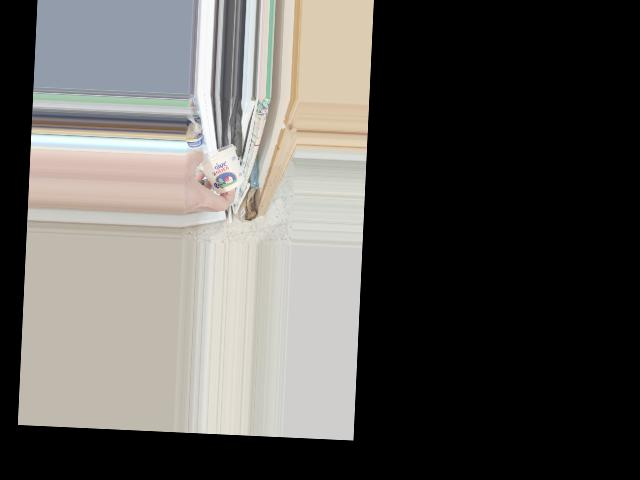cotage: (200, 141, 245, 192)
